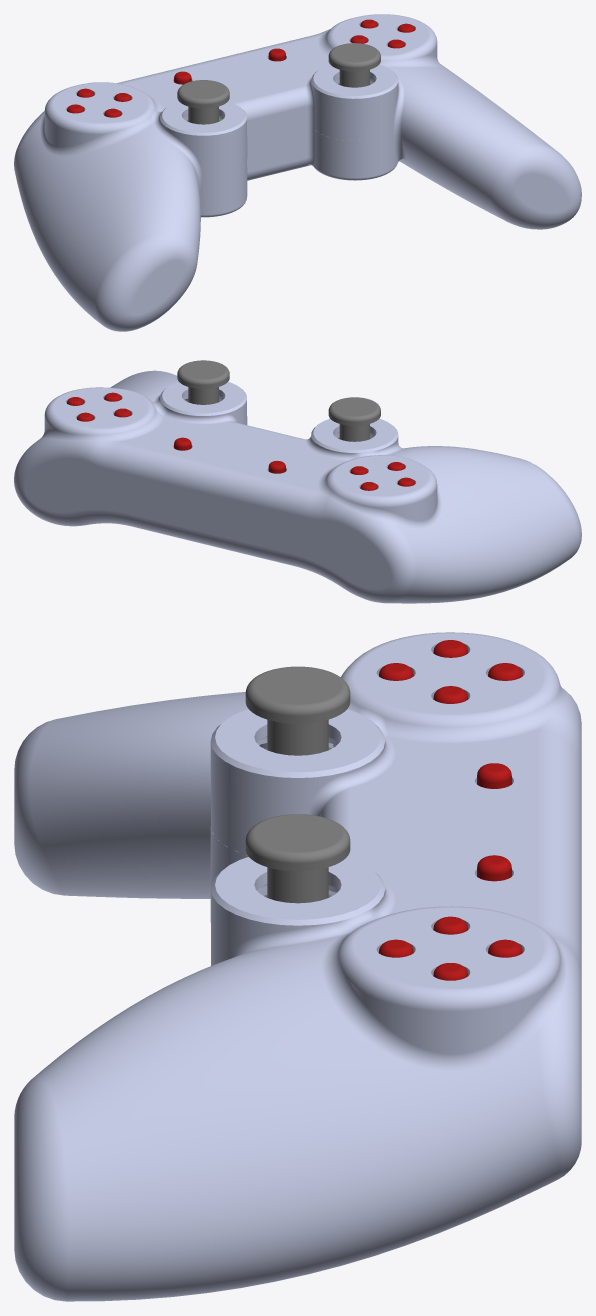
Rendered from Game_Controller_Assembly_2021.glb.
The picture shows the model from 3 angles, top to bottom: view 1: azimuth 30°, elevation 25°; view 2: azimuth 150°, elevation 25°; view 3: azimuth 270°, elevation 25°; orthographic projection. The views are drawn at different scales.
Parts seen in each view (by area): view 1: Games Controller Top 2021-1, Games Controller Bottom 2021-1, Joystick 2021-2, Joystick 2021-1, Controller PCB 2021-1; view 2: Games Controller Top 2021-1, Games Controller Bottom 2021-1, Joystick 2021-1, Joystick 2021-2, Controller PCB 2021-1; view 3: Games Controller Top 2021-1, Games Controller Bottom 2021-1, Joystick 2021-1, Joystick 2021-2, Controller PCB 2021-1.
Part boxes in pixels (x1,y1,x2,y2): Games Controller Top 2021-1: [14, 14, 581, 312]; Games Controller Bottom 2021-1: [43, 128, 581, 331]; Joystick 2021-2: [328, 43, 380, 87]; Joystick 2021-1: [177, 80, 229, 124]; Controller PCB 2021-1: [67, 19, 414, 120]; Games Controller Top 2021-1: [14, 370, 581, 599]; Games Controller Bottom 2021-1: [27, 485, 581, 603]; Joystick 2021-1: [328, 397, 380, 441]; Joystick 2021-2: [177, 360, 229, 404]; Controller PCB 2021-1: [67, 392, 414, 490]; Games Controller Top 2021-1: [14, 632, 581, 1264]; Games Controller Bottom 2021-1: [14, 800, 575, 1301]; Joystick 2021-1: [245, 666, 350, 755]; Joystick 2021-2: [245, 814, 350, 903]; Controller PCB 2021-1: [378, 640, 522, 980].
Bounding box in the file's own units: 0.2555 × 0.0829 × 0.13.
